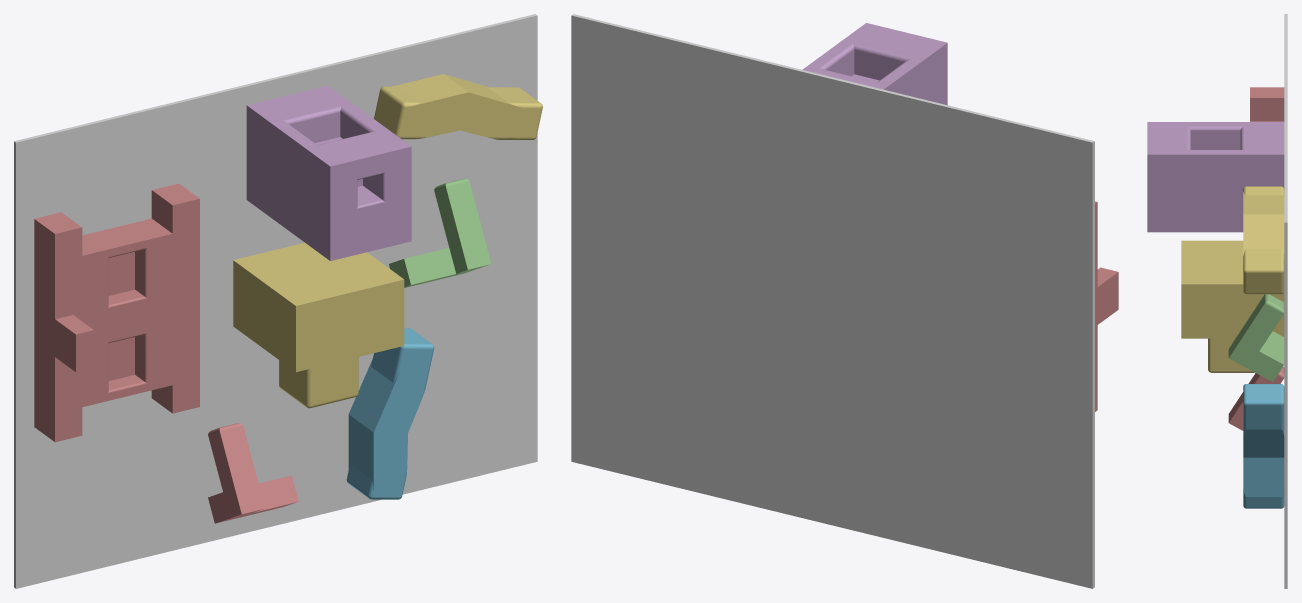
Rendered from pickup_layout.glb.
The picture shows the model from 3 angles, left to right: view 1: azimuth 30°, elevation 25°; view 2: azimuth 150°, elevation 25°; view 3: azimuth 270°, elevation 25°; orthographic projection. The views are drawn at different scales.
Visible parts, largest first — view 1: world, 0.obj, 3.obj, 6.obj, 2.obj, 1.obj, 4.obj, 5.obj; view 2: world, 3.obj, 0.obj; view 3: 3.obj, 6.obj, 2.obj, 1.obj, 4.obj, world, 0.obj, 5.obj.
Part boxes in pixels (left/top/right/bottom): world: left=14, top=14, right=537, bottom=588; 0.obj: left=34, top=183, right=199, bottom=442; 3.obj: left=246, top=85, right=411, bottom=260; 6.obj: left=233, top=242, right=404, bottom=408; 2.obj: left=346, top=328, right=434, bottom=499; 1.obj: left=374, top=74, right=542, bottom=139; 4.obj: left=389, top=178, right=491, bottom=287; 5.obj: left=208, top=423, right=298, bottom=523; world: left=571, top=14, right=1094, bottom=588; 3.obj: left=802, top=23, right=947, bottom=105; 0.obj: left=1095, top=201, right=1118, bottom=411; 3.obj: left=1147, top=122, right=1284, bottom=232; 6.obj: left=1181, top=240, right=1284, bottom=372; 2.obj: left=1243, top=384, right=1284, bottom=508; 1.obj: left=1243, top=186, right=1284, bottom=294; 4.obj: left=1228, top=294, right=1284, bottom=381; world: left=1284, top=14, right=1287, bottom=588; 0.obj: left=1250, top=87, right=1284, bottom=121; 5.obj: left=1228, top=366, right=1284, bottom=430.
Size of the model in its own units: 28.82 by 23.57 by 8.2.
